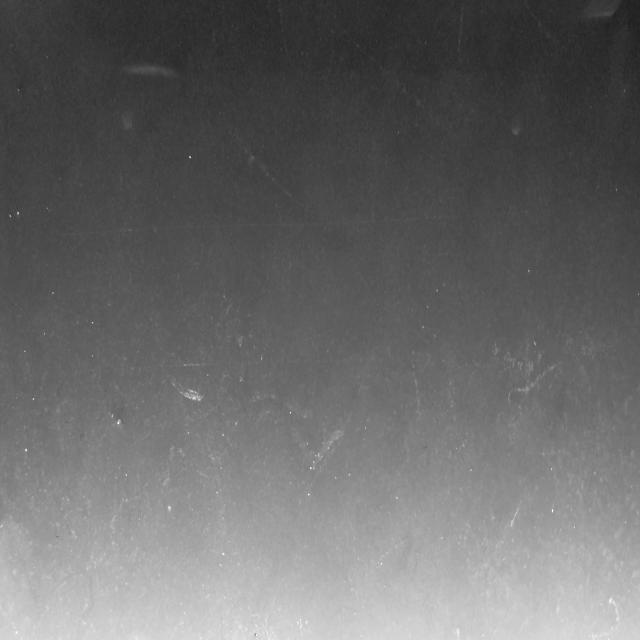beta: (328, 12, 468, 144), (225, 127, 312, 210), (506, 363, 562, 406), (521, 0, 566, 49), (371, 531, 418, 575), (586, 595, 623, 640), (410, 348, 423, 429), (274, 0, 290, 61), (456, 0, 466, 61), (509, 500, 523, 531), (524, 449, 566, 458)
